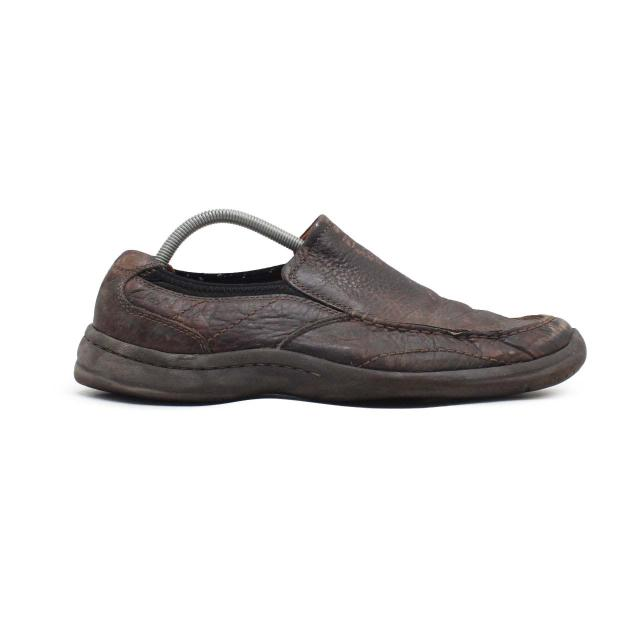heel: (95, 248, 213, 355)
midsole: (71, 320, 585, 407)
uppersole: (190, 213, 573, 371)
